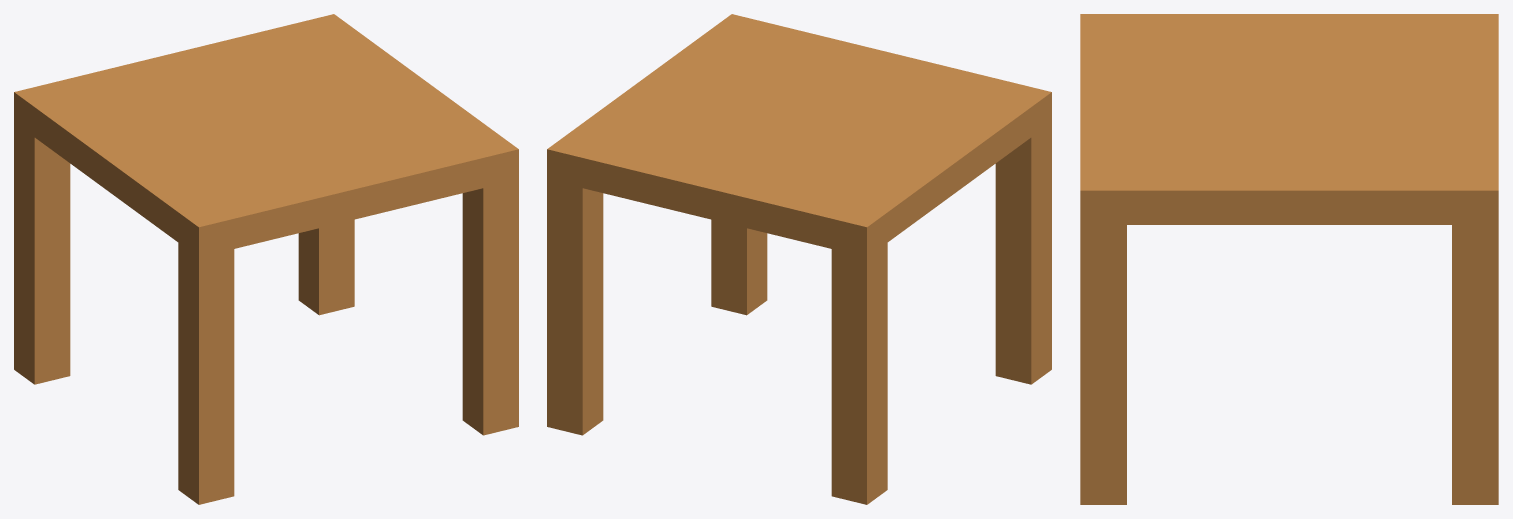
Rendered from mesa.glb.
3 views of the same model, side by side, from view 1: azimuth 30°, elevation 25°; view 2: azimuth 150°, elevation 25°; view 3: azimuth 270°, elevation 25° (orthographic). The views are drawn at different scales.
Parts seen in each view (by area): view 1: Cube; view 2: Cube; view 3: Cube.
Part boxes in pixels (x1,y1,x2,y2): Cube: (14,14,518,504); Cube: (547,14,1051,504); Cube: (1080,14,1498,504).
Bounding box in the file's own units: 2.73 × 2.26 × 2.73.
